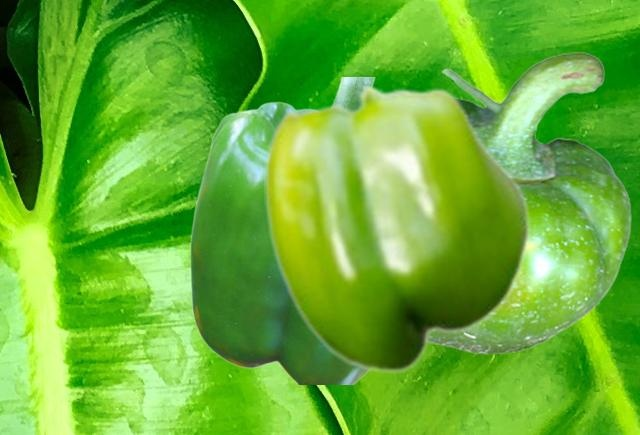bell_pepper: (264, 84, 530, 373), (430, 51, 630, 353), (189, 77, 377, 383)
